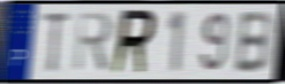1: (166, 9, 187, 75)
9: (198, 10, 231, 74)
B: (232, 9, 274, 76)
R: (109, 7, 158, 77), (72, 9, 116, 75)
T: (41, 10, 73, 75)
